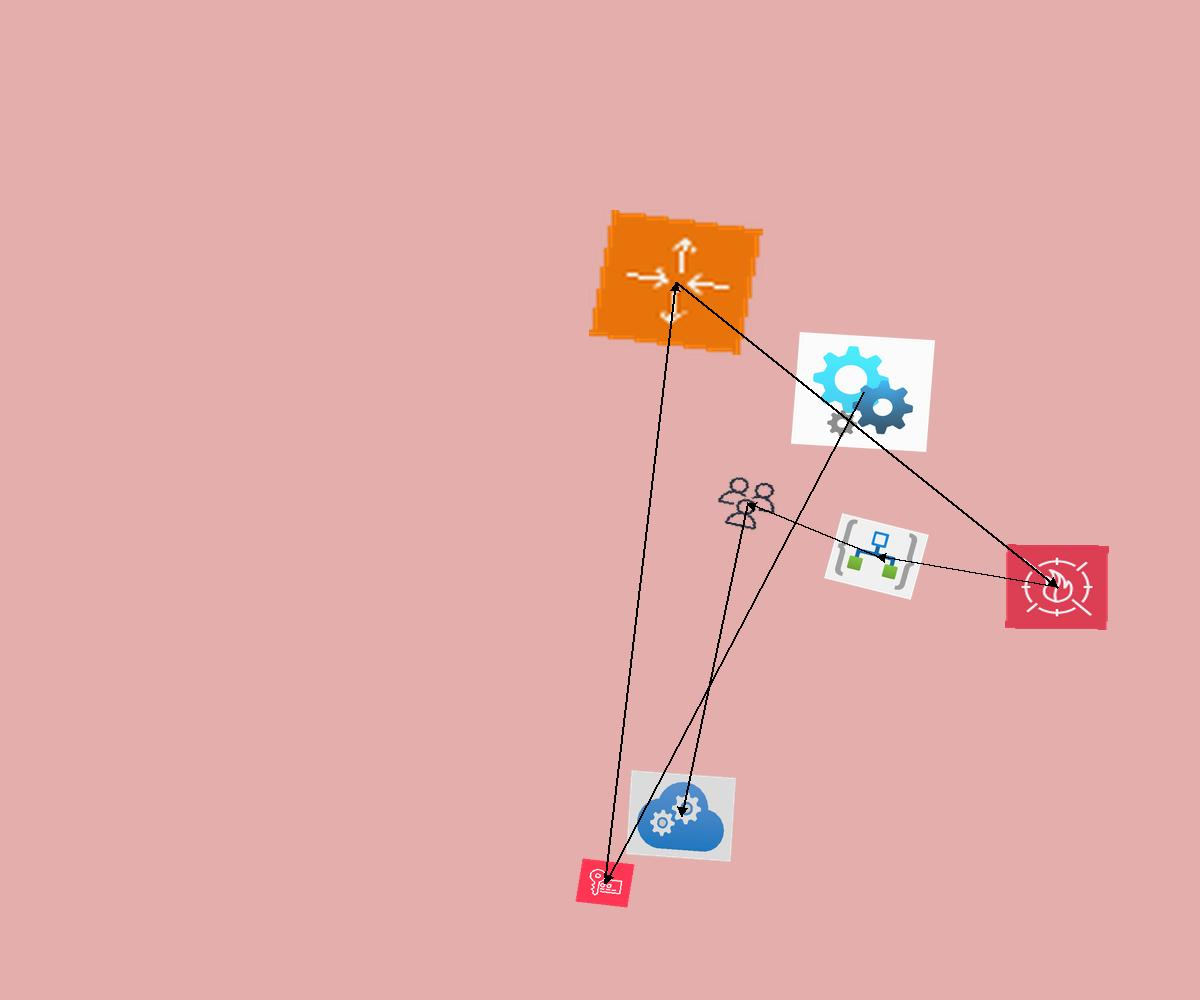AWS-Key-Management-Service: (575, 858, 635, 908)
AWS-Res_Users: (708, 471, 786, 536)
AWS-Scaling-group: (589, 210, 763, 355)
AWS-WAF: (1005, 544, 1109, 630)
Azure_api: (791, 332, 935, 452)
Azure_cloud_services: (626, 770, 736, 862)
Azure_integration-204-Logic-Apps: (824, 513, 929, 600)
